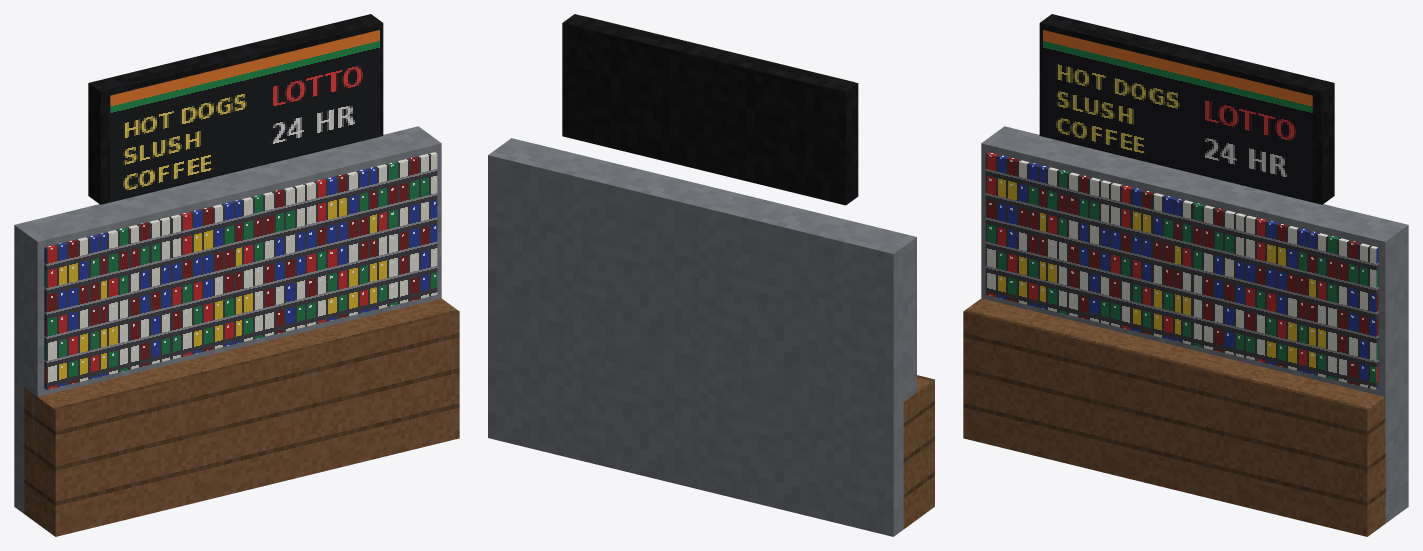
Rendered from env_back_bar.glb.
The picture shows the model from 3 angles, left to right: view 1: azimuth 30°, elevation 25°; view 2: azimuth 150°, elevation 25°; view 3: azimuth 330°, elevation 25°; orthographic projection.
Visible parts, largest first — view 1: env_back_bar; view 2: env_back_bar; view 3: env_back_bar.
Boxes of the visible parts, x1,y1,x2,y2 form: env_back_bar: [14, 14, 459, 536]; env_back_bar: [488, 14, 934, 536]; env_back_bar: [963, 14, 1408, 536].
Bounding box in the file's own units: 3 × 2.97 × 0.53.
5 materials, 5 textured.
